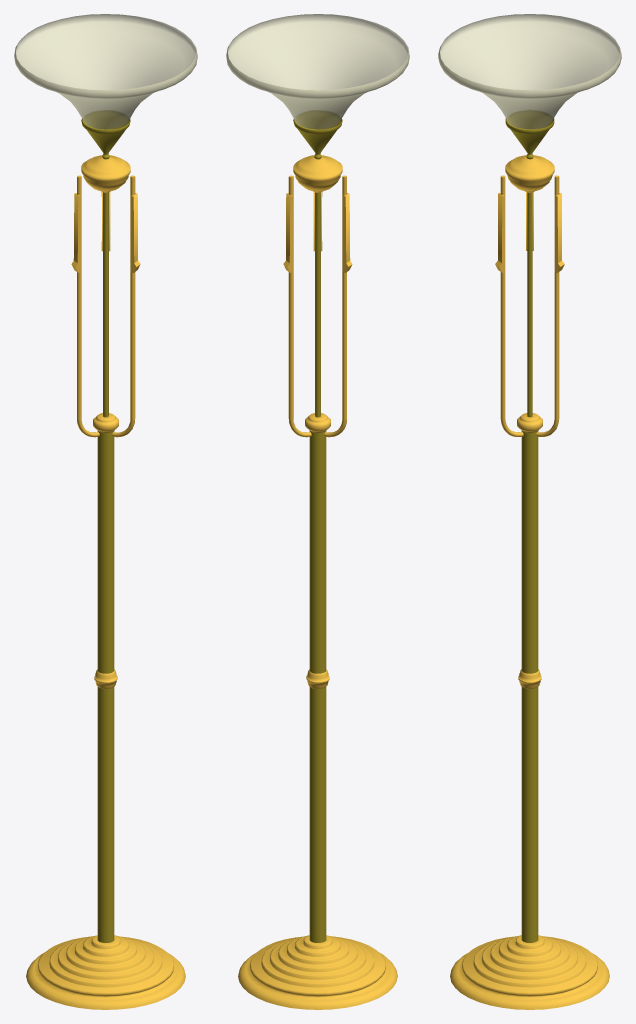
The model's file is MODUL_FLOOR-LAMP.dae.
The picture shows the model from 3 angles, left to right: view 1: azimuth 30°, elevation 25°; view 2: azimuth 150°, elevation 25°; view 3: azimuth 270°, elevation 25°; orthographic projection.
Visible parts, largest first — view 1: geometry-lumionModel (×3); view 2: geometry-lumionModel (×3); view 3: geometry-lumionModel (×3).
Boxes of the visible parts, <box> form: geometry-lumionModel (×3): <box>14,14,197,1009</box>; geometry-lumionModel (×3): <box>226,14,409,1009</box>; geometry-lumionModel (×3): <box>438,14,621,1009</box>.
Size of the model in its own units: 0.326 by 0.326 by 1.81.
